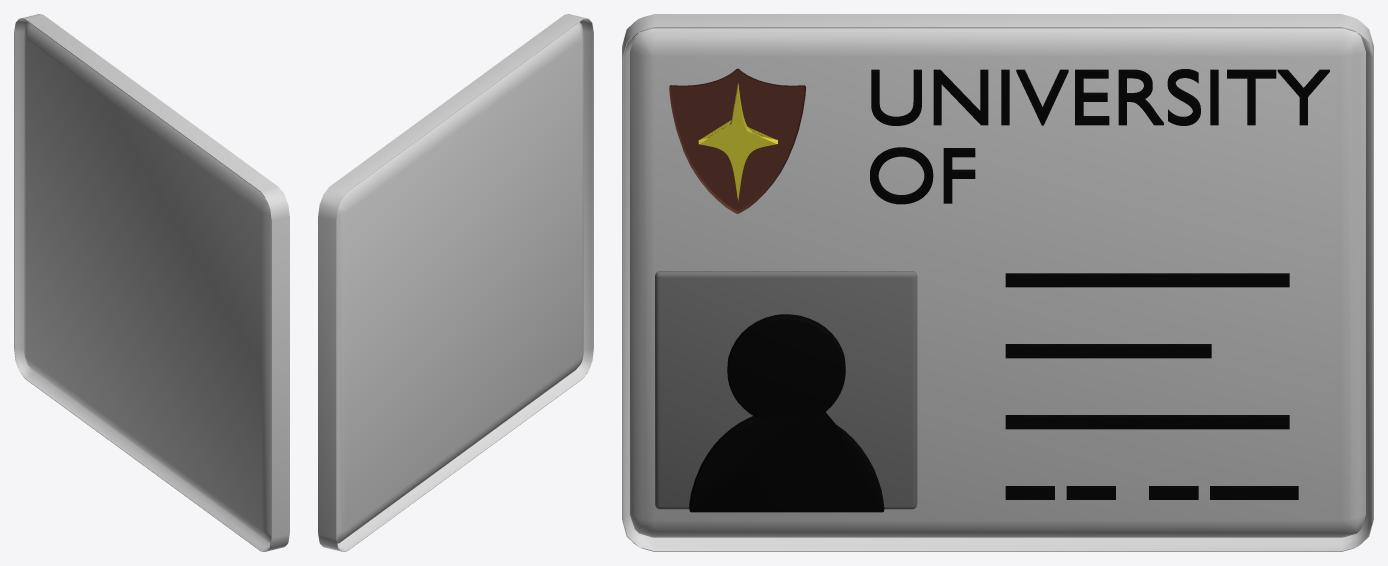
The model's file is PuzzleItem_StudentCard (1).fbx.
3 renders of one model, left to right at view 1: azimuth 30°, elevation 25°; view 2: azimuth 150°, elevation 25°; view 3: azimuth 270°, elevation 25°, orthographic. The views are drawn at different scales.
Parts seen in each view (by area): view 1: Cube; view 2: Cube; view 3: Cube, Cube.001, Text.001, Cube.003, Text.
Part boxes in pixels (box(x1,y1,x2,y2)): Cube: box(14, 14, 289, 551); Cube: box(318, 14, 593, 551); Cube: box(622, 14, 1373, 551); Cube.001: box(655, 271, 917, 512); Text.001: box(1005, 273, 1298, 499); Cube.003: box(669, 68, 805, 213); Text: box(870, 69, 1329, 204).
Size of the model in its own units: 21.34 by 260 by 337.
